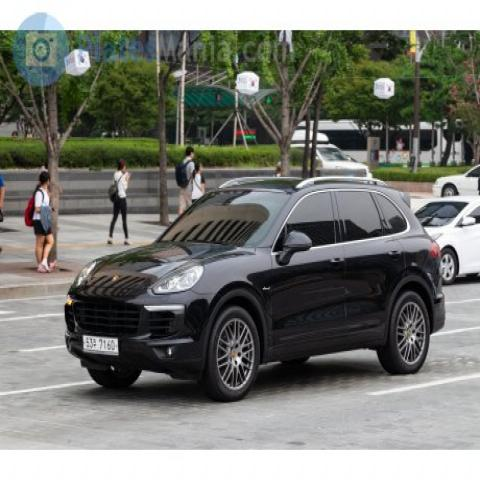LP: (75, 330, 129, 364)
